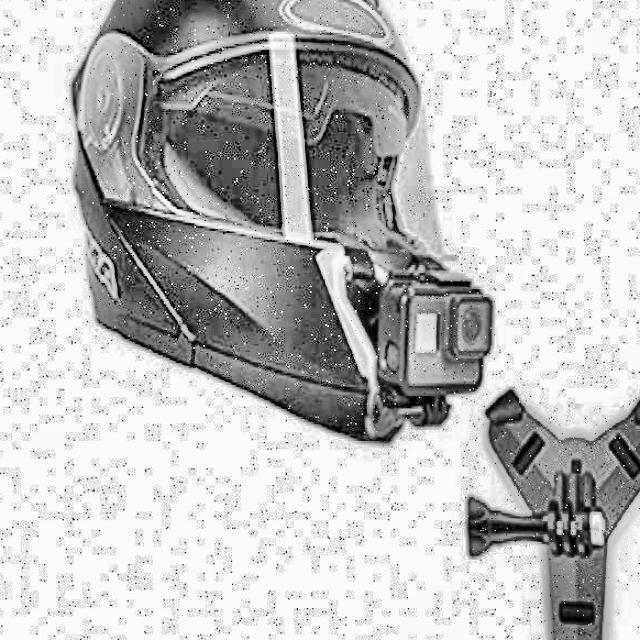Helmet: (46, 0, 505, 459)
